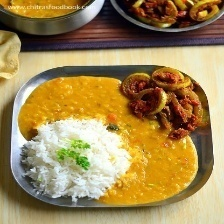dal: (0, 0, 95, 21)
